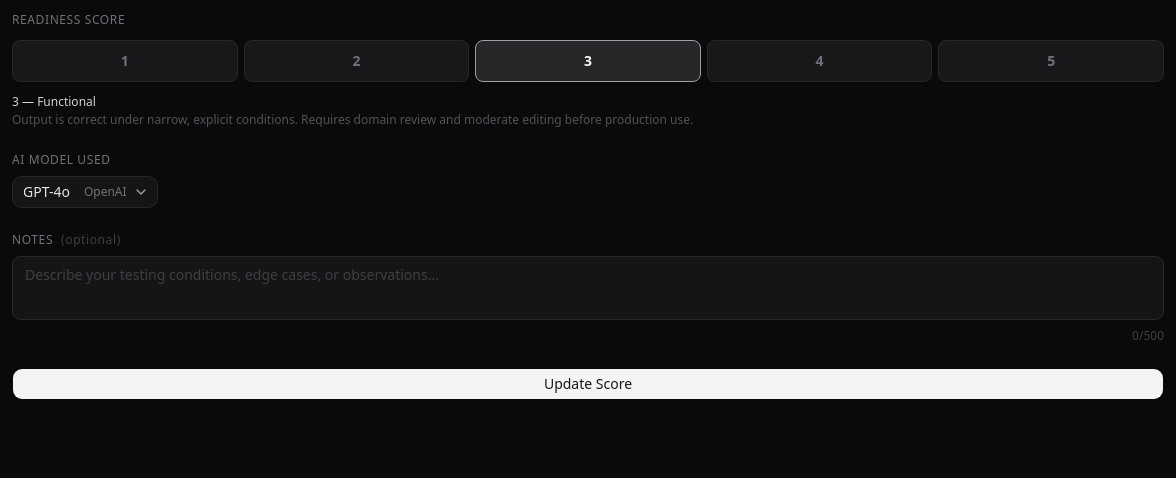
Test: VoteForm — authenticated › shows a network error message when fetch throws
What coordinates should you click on to do the following:
click the button "Update Score"
I would click on:
 (588, 384)
Its box is [12, 368, 1164, 400].
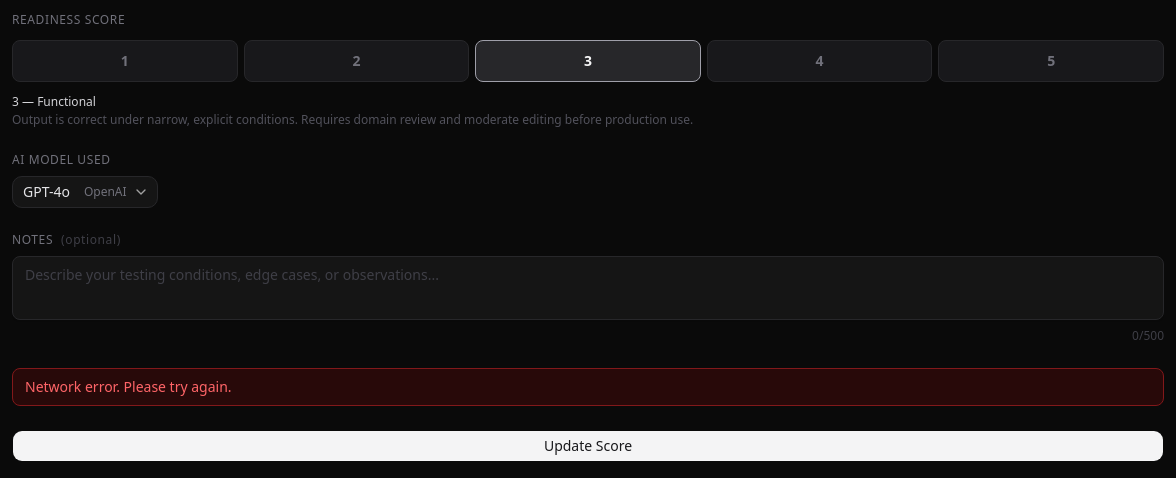
expect the text "Network error. Please try again." is shown: met, box [12, 368, 1164, 406]
